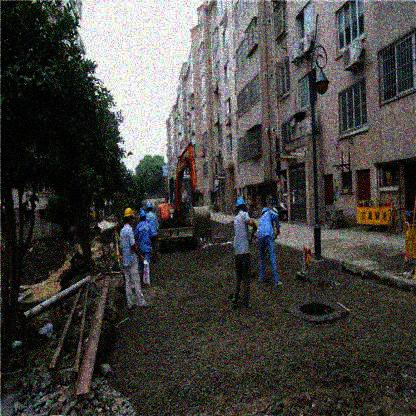helmet: (123, 207, 133, 225), (235, 197, 245, 211), (139, 211, 147, 222), (147, 202, 153, 213), (182, 183, 185, 192)
